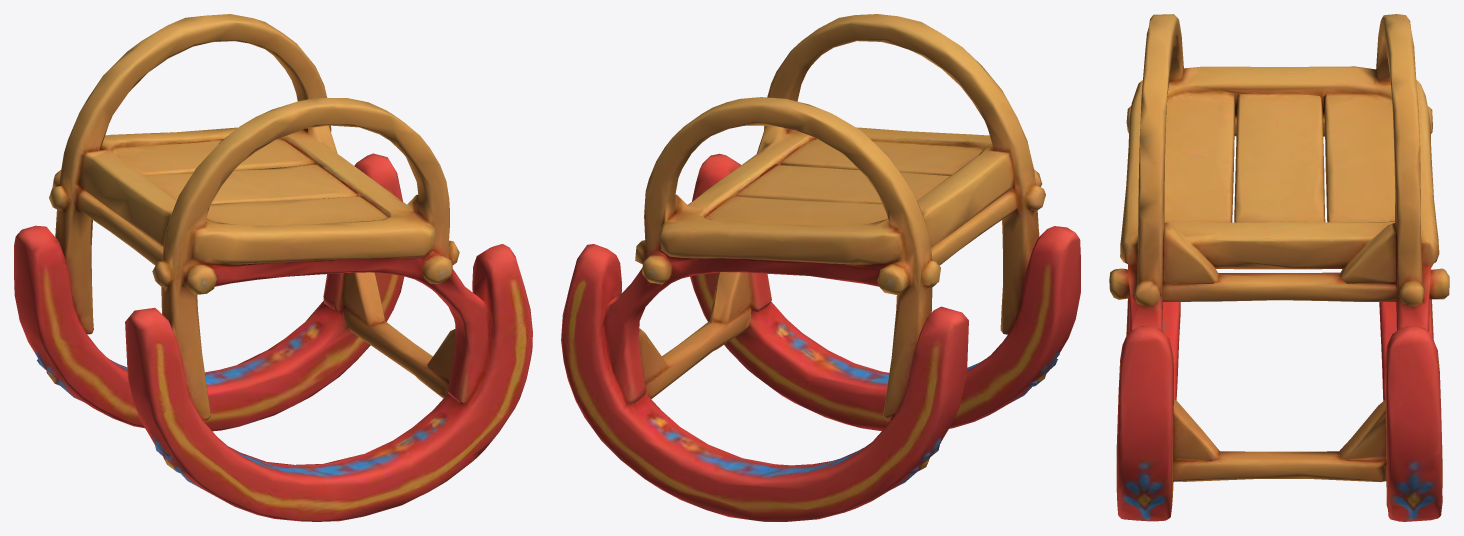
Rendered from sled.glb.
3 renders of one model, left to right at view 1: azimuth 30°, elevation 25°; view 2: azimuth 150°, elevation 25°; view 3: azimuth 270°, elevation 25°, orthographic. The views are drawn at different scales.
Parts seen in each view (by area): view 1: tripo_node_897a46a7-405f-489d-b11d-60ed6146d613; view 2: tripo_node_897a46a7-405f-489d-b11d-60ed6146d613; view 3: tripo_node_897a46a7-405f-489d-b11d-60ed6146d613.
Part boxes in pixels (x1,y1,x2,y2): tripo_node_897a46a7-405f-489d-b11d-60ed6146d613: (14,14,532,521); tripo_node_897a46a7-405f-489d-b11d-60ed6146d613: (561,14,1080,521); tripo_node_897a46a7-405f-489d-b11d-60ed6146d613: (1109,14,1449,521).
Bounding box in the file's own units: 0.5839 × 0.6 × 0.4165.
Materials: 1 (1 with a texture image).
